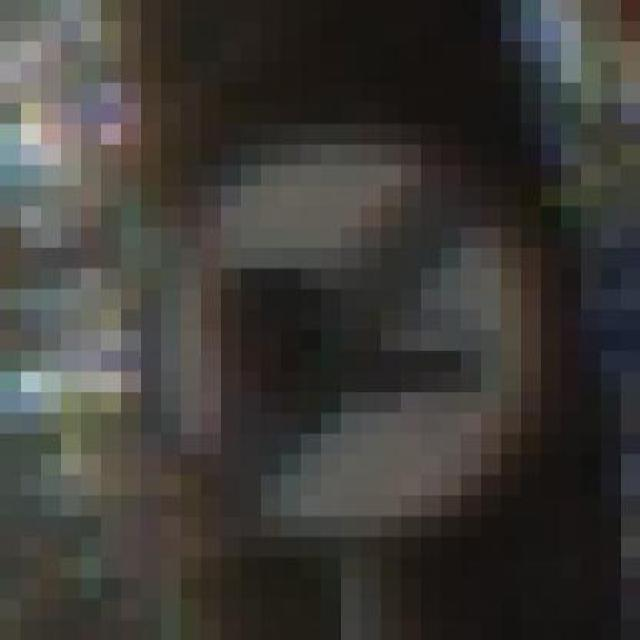Overtaking by trucks is prohibited: (60, 103, 600, 557)
